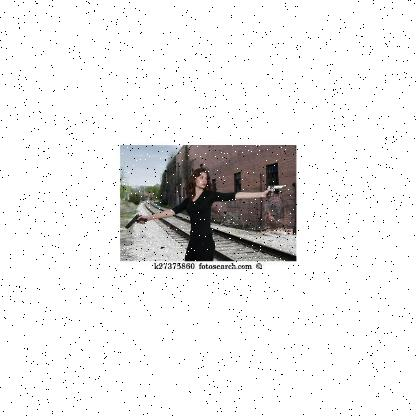gun: (264, 184, 288, 198), (123, 214, 145, 228)
